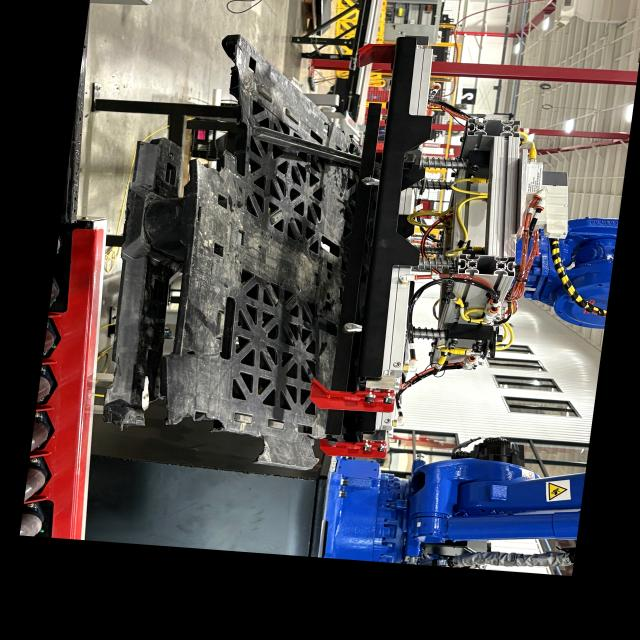igps: (90, 26, 377, 482)
